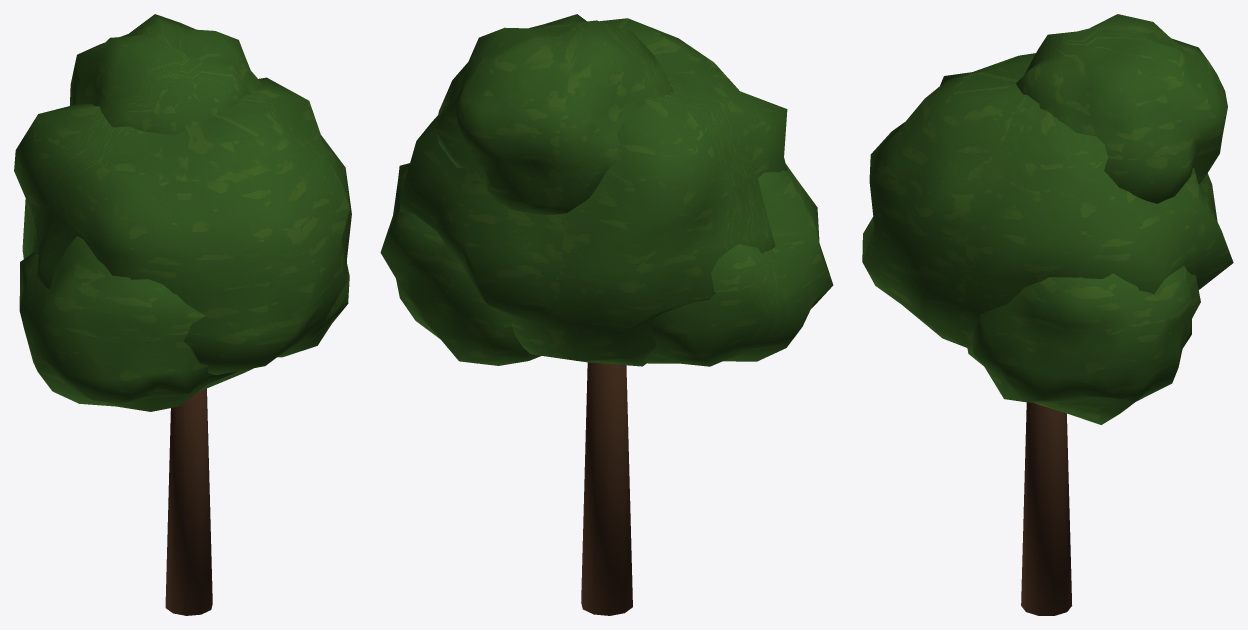
Rendered from tree3_custom.glb.
The picture shows the model from 3 angles, left to right: view 1: azimuth 30°, elevation 25°; view 2: azimuth 150°, elevation 25°; view 3: azimuth 270°, elevation 25°; orthographic projection. The views are drawn at different scales.
Parts seen in each view (by area): view 1: tree3_custom; view 2: tree3_custom; view 3: tree3_custom.
Part boxes in pixels (bbox=[...]): tree3_custom: bbox=[14, 14, 351, 615]; tree3_custom: bbox=[380, 14, 833, 615]; tree3_custom: bbox=[862, 14, 1233, 615].
Bounding box in the file's own units: 1.47 × 2.24 × 1.31.
2 materials, 2 textured.
